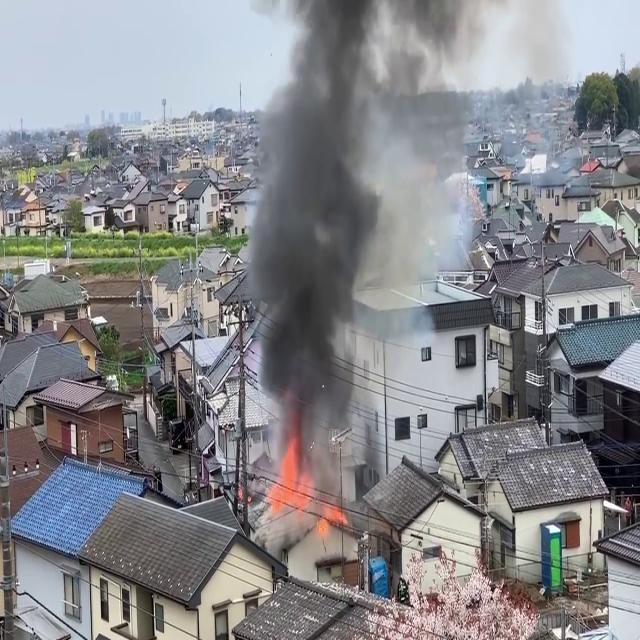Fire: (264, 448, 346, 528)
Smoke: (237, 0, 403, 476)
